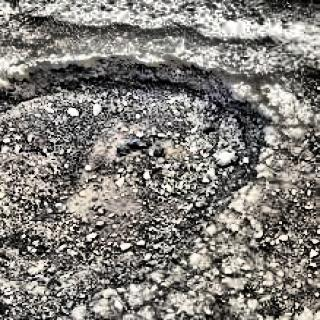pothole: (0, 55, 275, 311)
